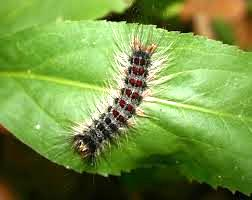Caterpillar: (74, 38, 161, 165)
